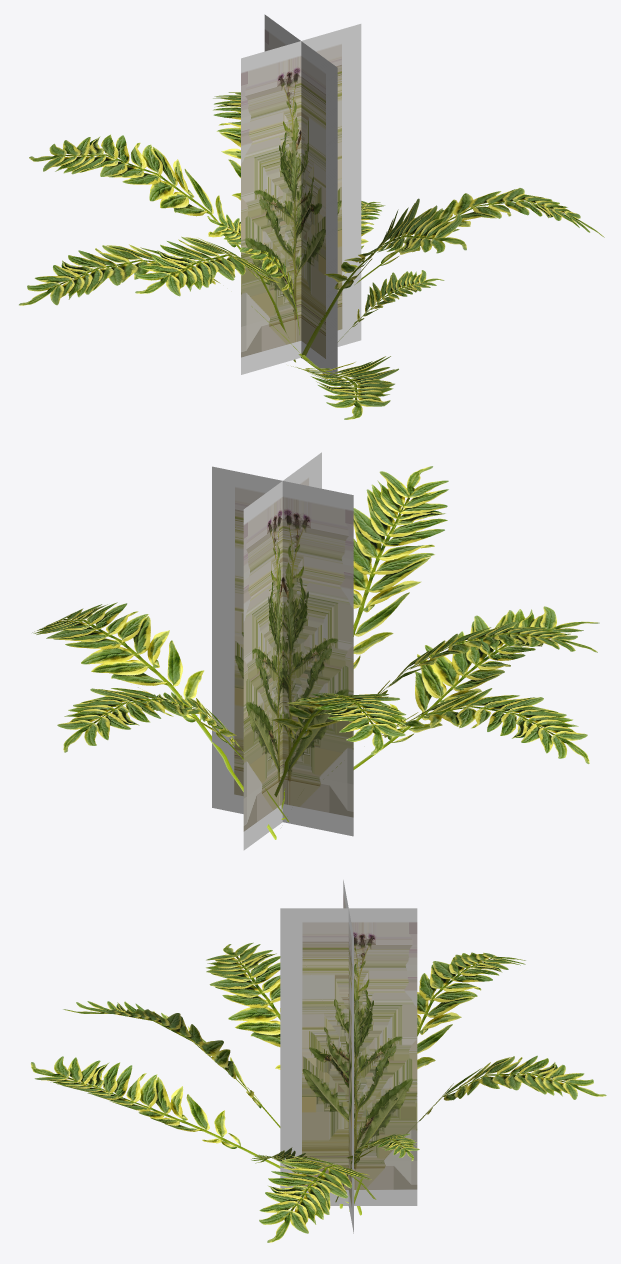
File: куст62.fbx
3 views of the same model, one above another, from view 1: azimuth 30°, elevation 25°; view 2: azimuth 150°, elevation 25°; view 3: azimuth 270°, elevation 25° (orthographic). The views are drawn at different scales.
Visible parts, largest first — view 1: 1522185939_3, Plane.001, Plane; view 2: 1522185939_3, Plane.001, Plane; view 3: Plane, 1522185939_3, Plane.001.
Part boxes in pixels (x1,y1,x2,y2): 1522185939_3: (19, 92, 604, 419); Plane.001: (241, 24, 361, 374); Plane: (264, 14, 337, 380); 1522185939_3: (32, 466, 599, 839); Plane.001: (212, 466, 353, 836); Plane: (243, 452, 321, 850); Plane: (280, 908, 417, 1205); 1522185939_3: (30, 942, 606, 1242); Plane.001: (343, 880, 353, 1233).
Size of the model in its own units: 650 by 367 by 637.
